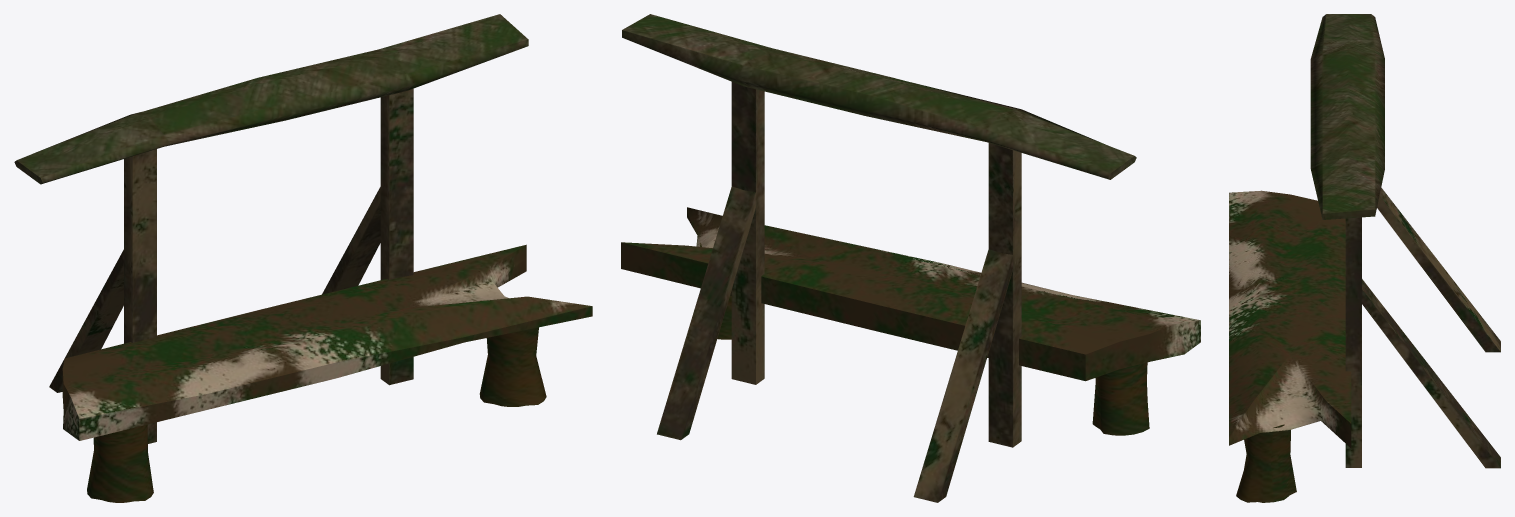
File: banca-vieja.glb
The picture shows the model from 3 angles, left to right: view 1: azimuth 30°, elevation 25°; view 2: azimuth 150°, elevation 25°; view 3: azimuth 270°, elevation 25°; orthographic projection. The views are drawn at different scales.
Bounding box in the file's own units: 11.98 × 7.38 × 5.92.
5 materials, 5 textured.
